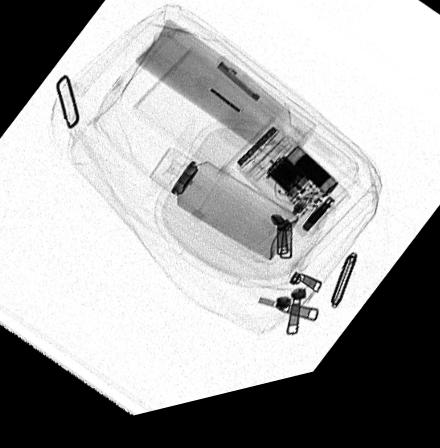Sprayer: (147, 156, 298, 274)
